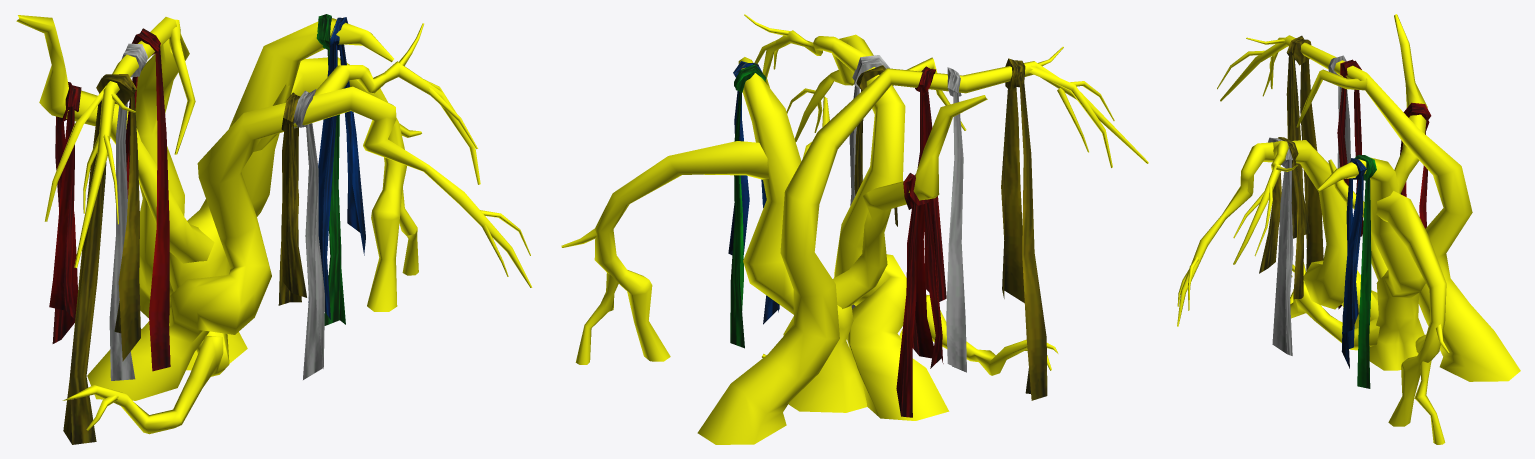
File: treestatue_06.glb
The picture shows the model from 3 angles, left to right: view 1: azimuth 30°, elevation 25°; view 2: azimuth 150°, elevation 25°; view 3: azimuth 270°, elevation 25°; orthographic projection. The views are drawn at different scales.
Parts seen in each view (by area): view 1: deadwood_08; view 2: deadwood_08; view 3: deadwood_08.
Boxes of the visible parts, bbox=[...] form: deadwood_08: bbox=[16, 14, 532, 444]; deadwood_08: bbox=[561, 14, 1148, 444]; deadwood_08: bbox=[1177, 14, 1520, 444].
Size of the model in its own units: 20.9 by 15.28 by 16.96.
Materials: 3 (3 with a texture image).
